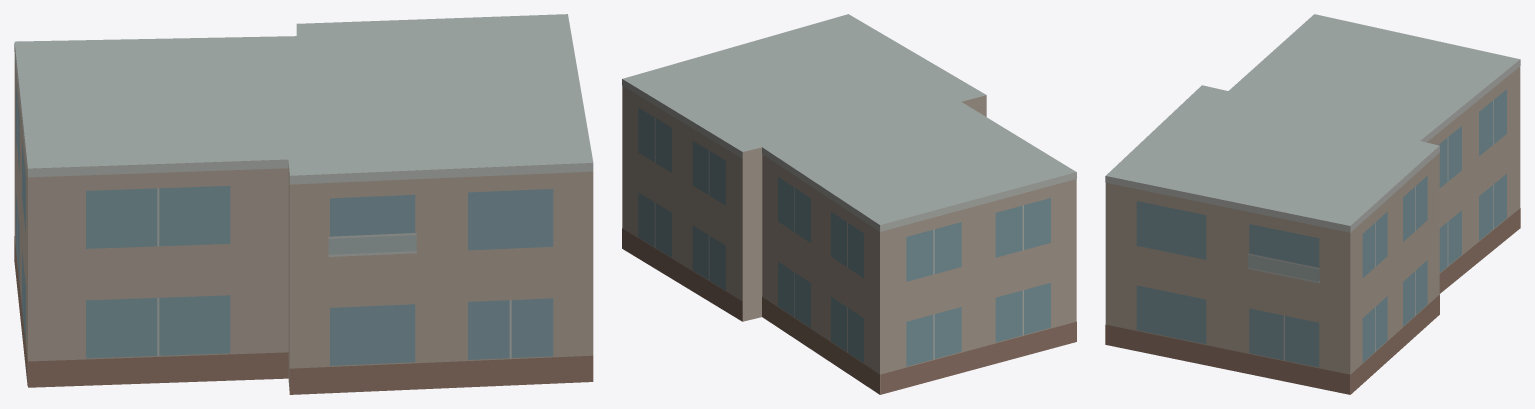
The model's file is survey-upis-33041798.glb.
3 renders of one model, left to right at view 1: azimuth 30°, elevation 25°; view 2: azimuth 150°, elevation 25°; view 3: azimuth 270°, elevation 25°, orthographic. The views are drawn at different scales.
Visible parts, largest first — view 1: survey-upis-33041798.tmp; view 2: survey-upis-33041798.tmp; view 3: survey-upis-33041798.tmp.
Boxes of the visible parts, x1,y1,x2,y2 form: survey-upis-33041798.tmp: (14,14,593,394); survey-upis-33041798.tmp: (622,14,1076,394); survey-upis-33041798.tmp: (1105,14,1520,394).
Size of the model in its own units: 16.43 by 6.1 by 13.59.
